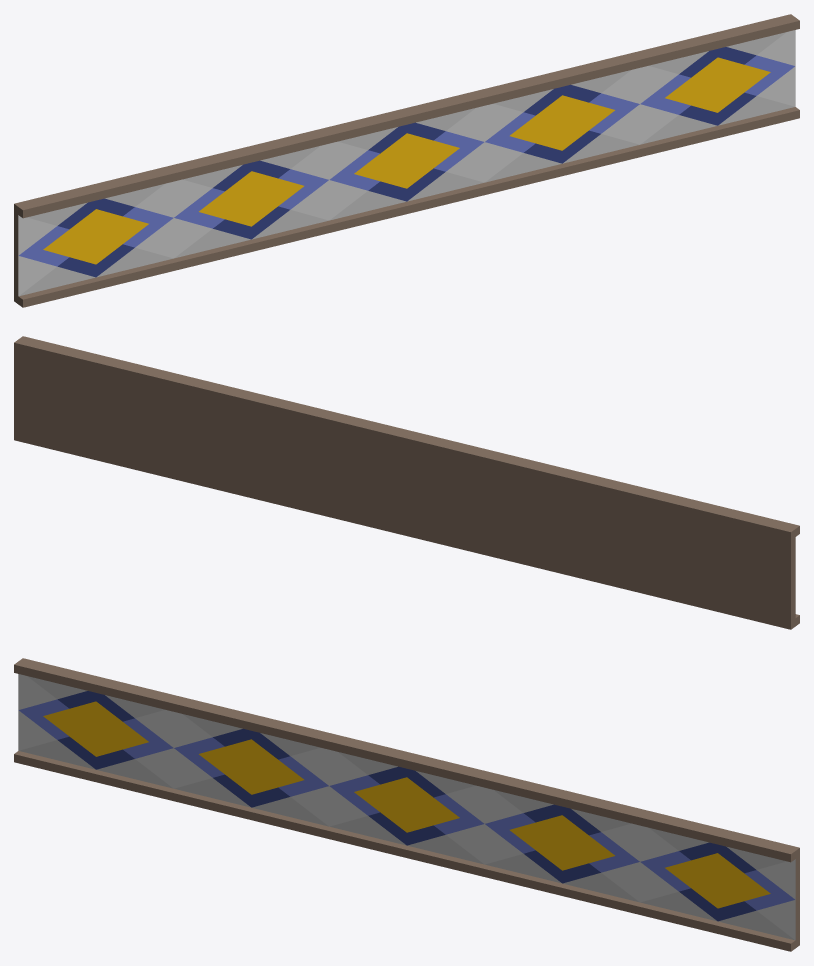
The model's file is SkirtingBoard_04.glb.
3 views of the same model, one above another, from view 1: azimuth 30°, elevation 25°; view 2: azimuth 150°, elevation 25°; view 3: azimuth 330°, elevation 25° (orthographic).
Visible parts, largest first — view 1: SkirtingBoard_04; view 2: SkirtingBoard_04; view 3: SkirtingBoard_04.
Boxes of the visible parts, bbox=[...] form: SkirtingBoard_04: bbox=[14, 14, 799, 307]; SkirtingBoard_04: bbox=[14, 336, 799, 629]; SkirtingBoard_04: bbox=[14, 658, 799, 951].
Size of what is drawn, in the model's own units: 1 by 0.12 by 0.02.
1 material, 1 textured.
